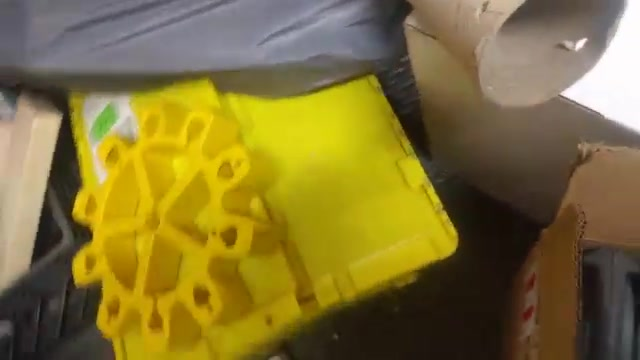gear: (53, 99, 299, 358)
